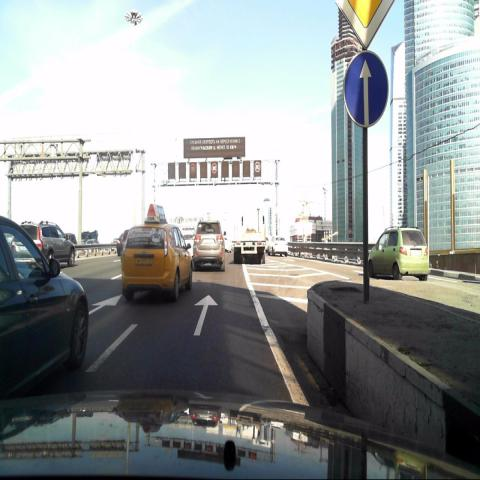4_1_1: (342, 49, 390, 127)
